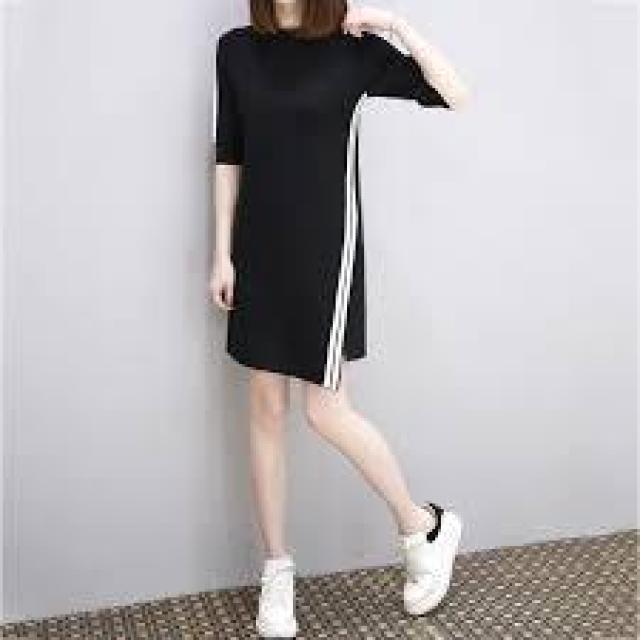dress: (213, 17, 432, 384)
